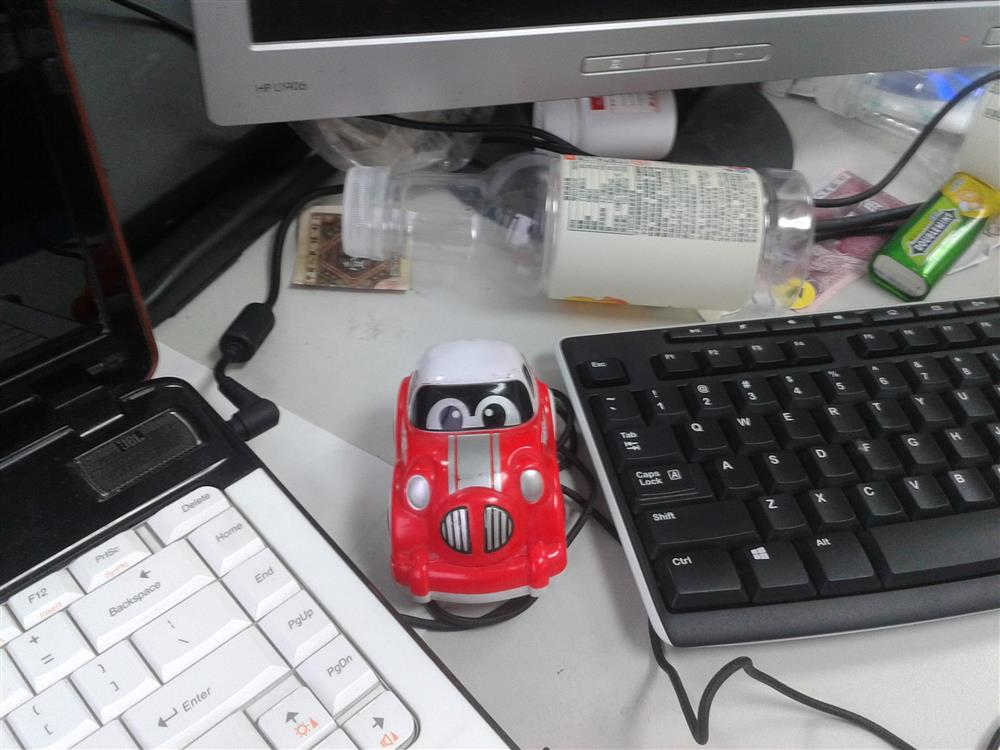toy_car: (365, 342, 583, 609)
